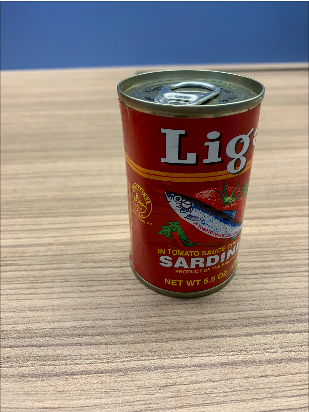Sardines_100-199g: (128, 97, 239, 288)
